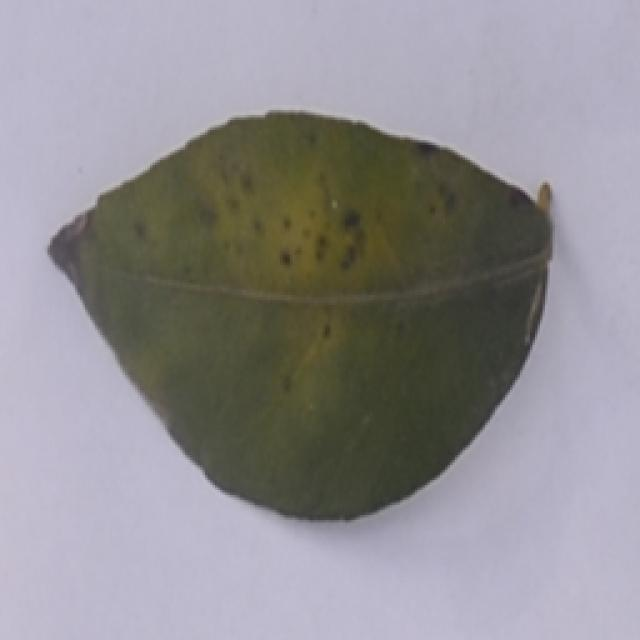blackspot: (42, 104, 568, 524)
